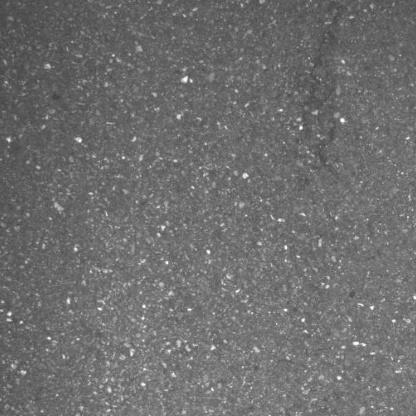Cracks: (298, 6, 345, 129), (315, 118, 341, 183)
